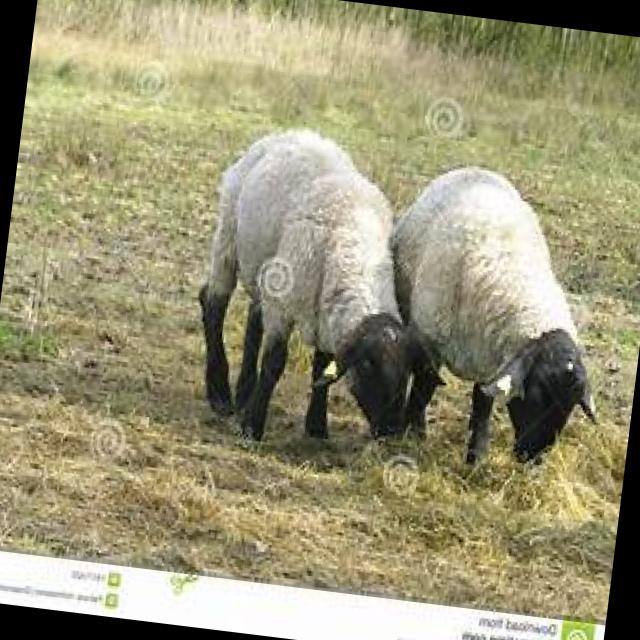animal: (182, 114, 477, 463), (363, 154, 630, 482)
